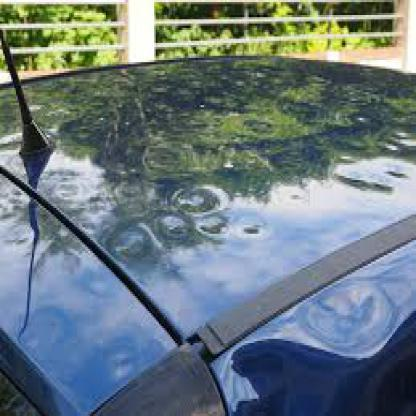dent: (94, 165, 252, 266), (290, 264, 414, 377)
